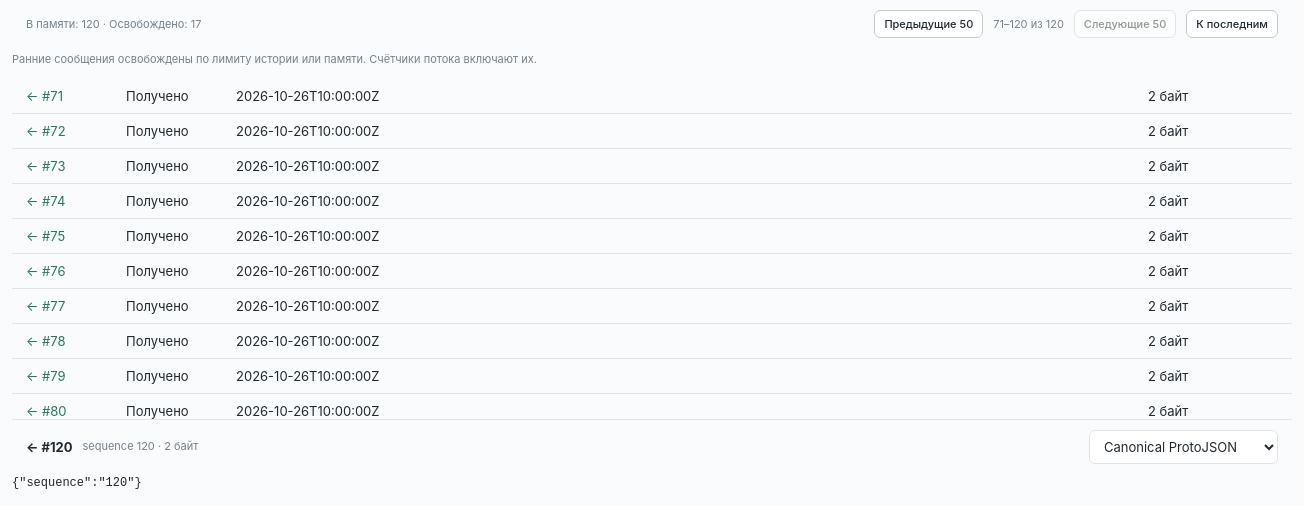
Test case: gRPC stream UI › renders only a movable window of 50 messages, exposes evictions and keeps individual selection
Expected: the text "В памяти: 120 · Освобождено: 17" is shown, x1=26 y1=15 x2=201 y2=33
Click the button "Предыдущие 50".
click(929, 24)  # box x1=874 y1=10 x2=983 y2=38
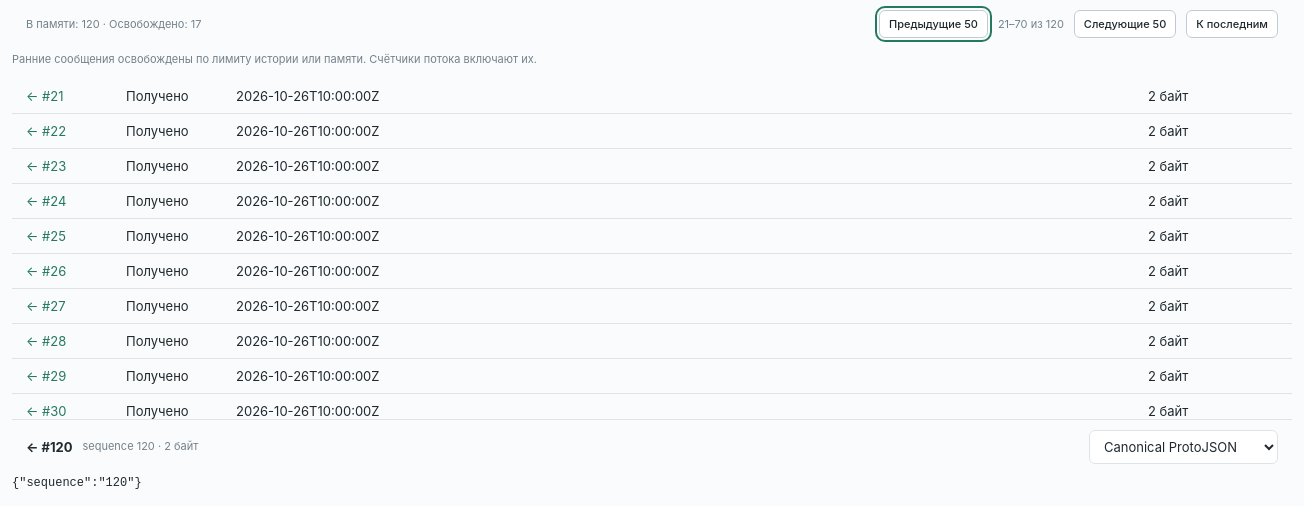
Click the button with aria-label "← #21 · получено · 2 байт".
click(157, 96)  # box x1=12 y1=79 x2=1292 y2=114
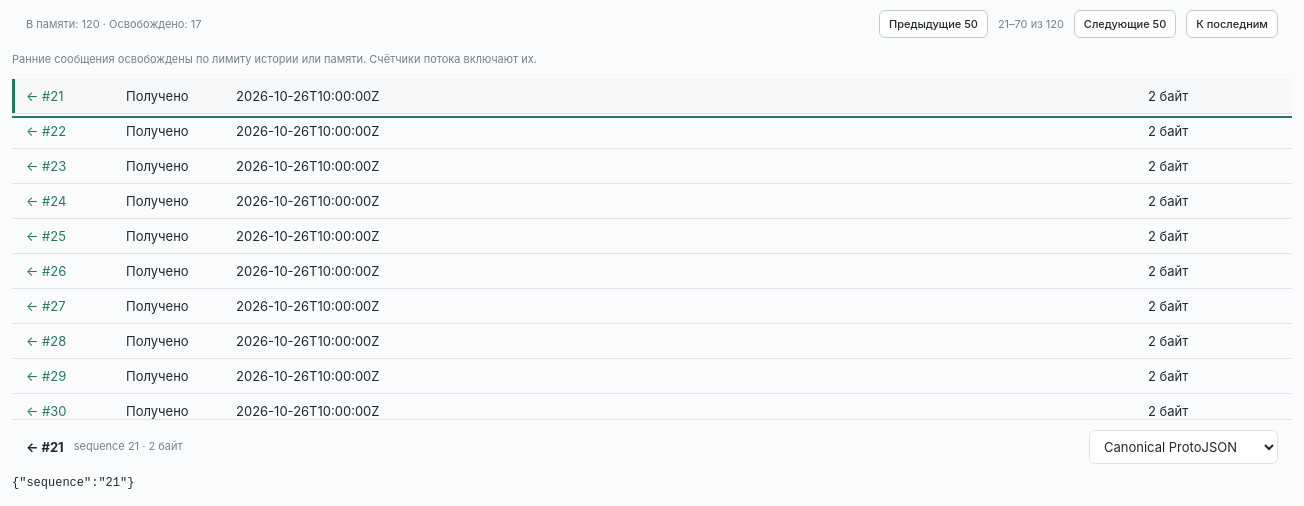
Now the text named "Сообщение gRPC stream" shows "\"21\"", box x1=12 y1=476 x2=134 y2=490
Click the button "К последним".
click(1232, 24)  # box x1=1186 y1=10 x2=1278 y2=38
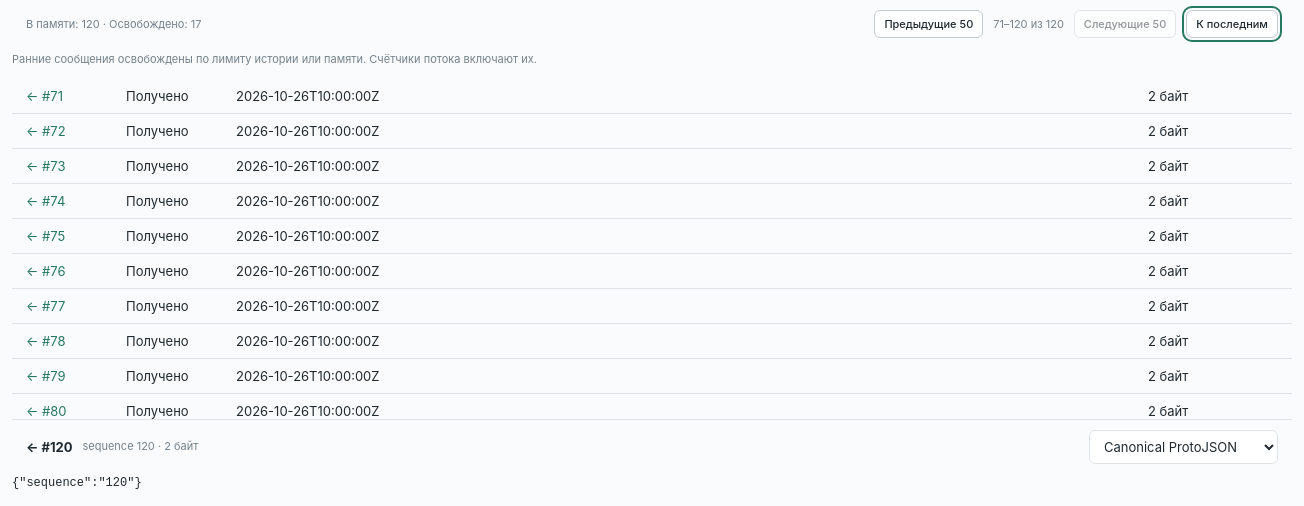
Now the text named "Сообщение gRPC stream" shows "\"120\"", box x1=12 y1=476 x2=142 y2=490
